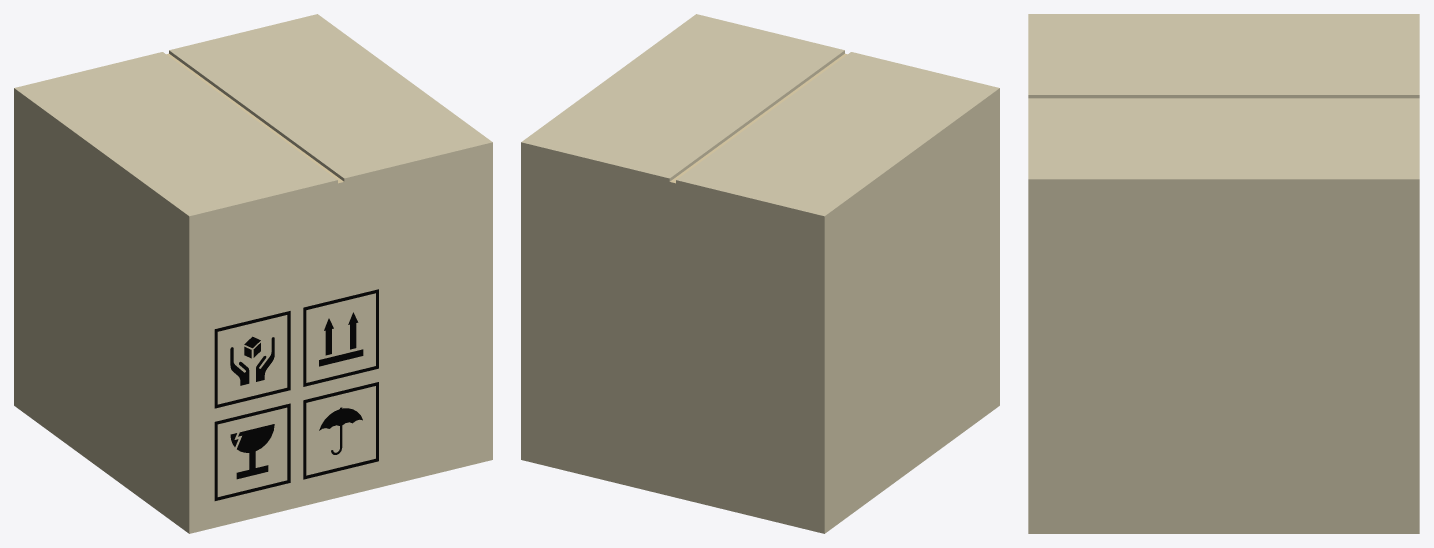
File: Box - Package.glb
3 renders of one model, left to right at view 1: azimuth 30°, elevation 25°; view 2: azimuth 150°, elevation 25°; view 3: azimuth 270°, elevation 25°, orthographic. The views are drawn at different scales.
Parts seen in each view (by area): view 1: Solid1; view 2: Solid1; view 3: Solid1.
Boxes of the visible parts, x1,y1,x2,y2 form: Solid1: [14, 14, 492, 533]; Solid1: [521, 14, 999, 533]; Solid1: [1028, 14, 1419, 533].
Size of the model in its own units: 0.3048 by 0.3048 by 0.3048.
